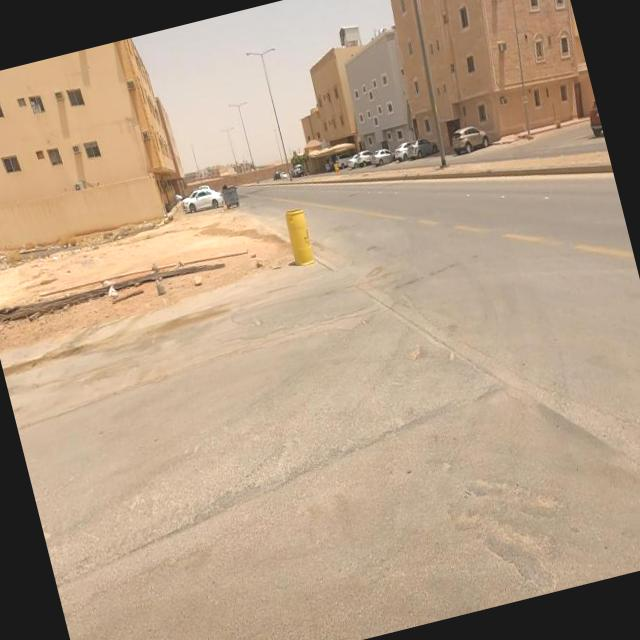debris: (66, 244, 158, 348), (153, 238, 230, 319)
